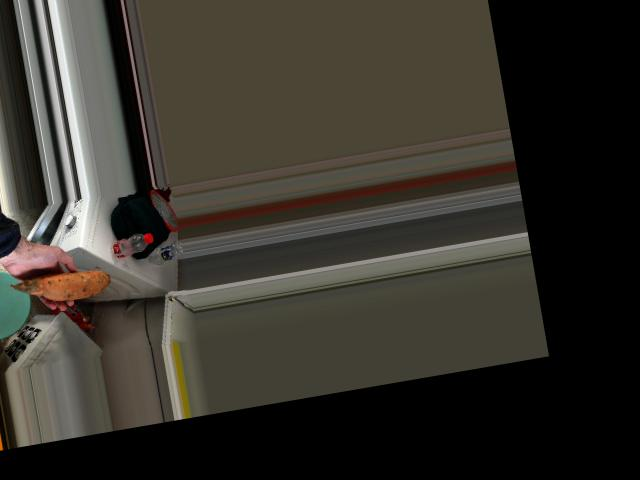sweet_potato: (14, 263, 103, 303)
